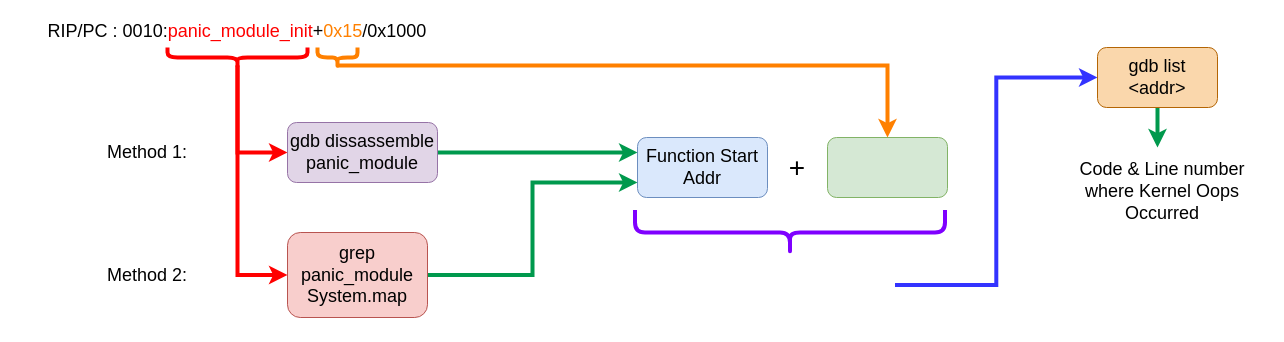
This 1284x342 diagram has some shape labels left out. The shapes that lost their labels are listed below. From the top down, each one's box as (x1, y1, x2, y2) in pixels, then its label:
(826, 136, 948, 198): Offset
(632, 208, 946, 256): Address where Kernel Oops Occurred
